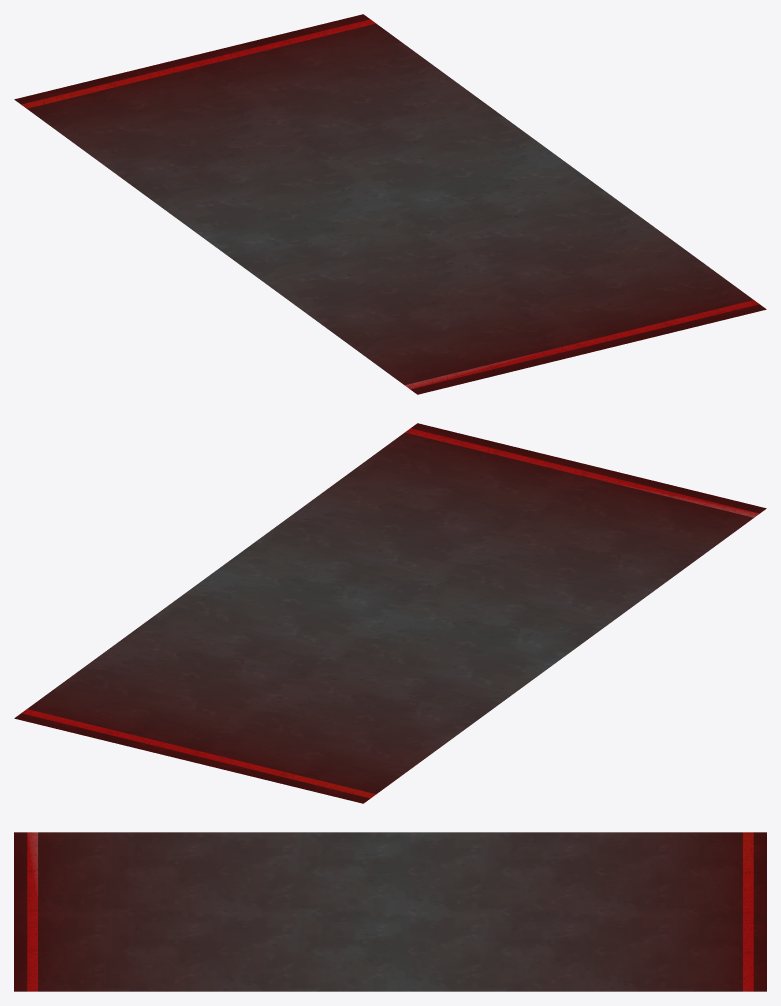
The model's file is Street_4Lane_noSidewalk.glb.
The picture shows the model from 3 angles, top to bottom: view 1: azimuth 30°, elevation 25°; view 2: azimuth 150°, elevation 25°; view 3: azimuth 270°, elevation 25°; orthographic projection. The views are drawn at different scales.
Parts seen in each view (by area): view 1: Street_4Lane_noSidewalk; view 2: Street_4Lane_noSidewalk; view 3: Street_4Lane_noSidewalk.
Boxes of the visible parts, box(x1,y1,x2,y2) form: Street_4Lane_noSidewalk: box(14, 14, 766, 394); Street_4Lane_noSidewalk: box(14, 423, 766, 803); Street_4Lane_noSidewalk: box(14, 832, 766, 991).
Size of the model in its own units: 6 by 0.00146 by 12.
2 materials, 2 textured.
